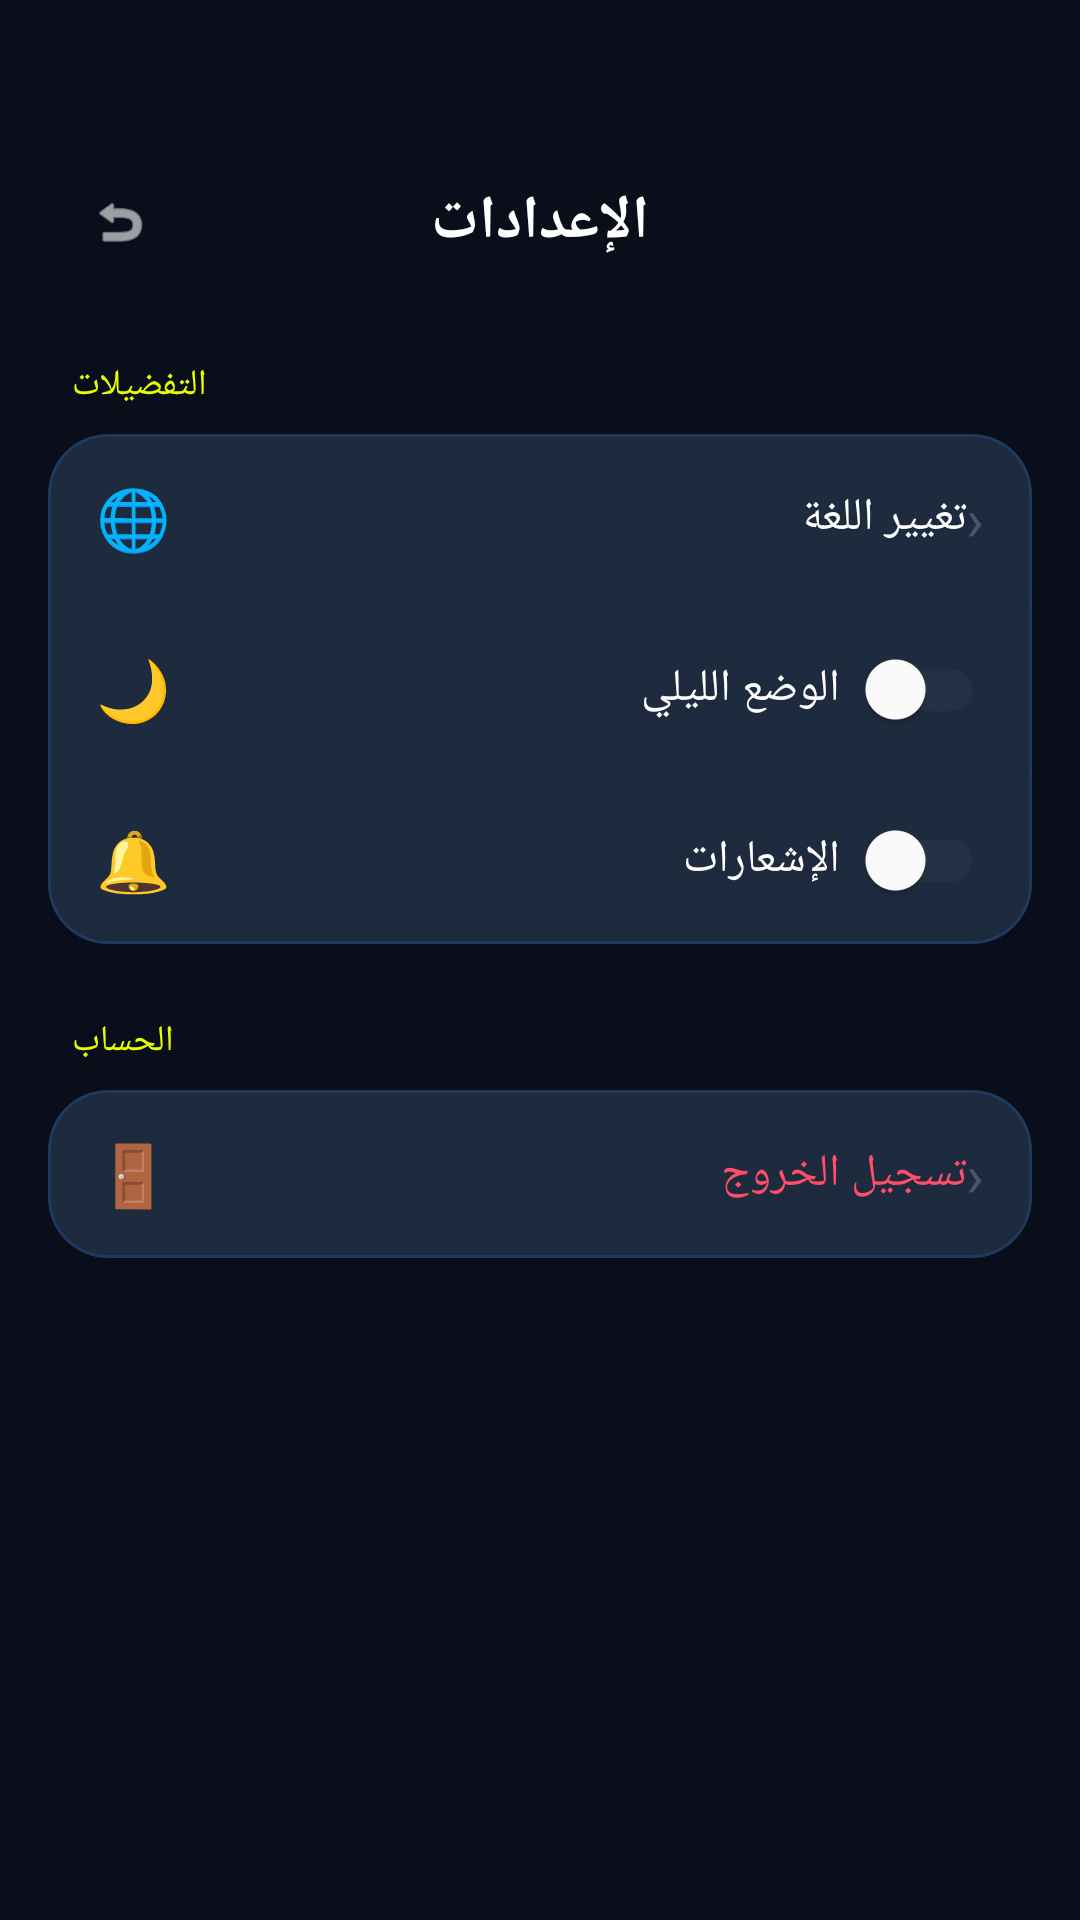

Named icons in this screenshot (1080x1920) and their centers, (x,y):
revert: (121,222)
